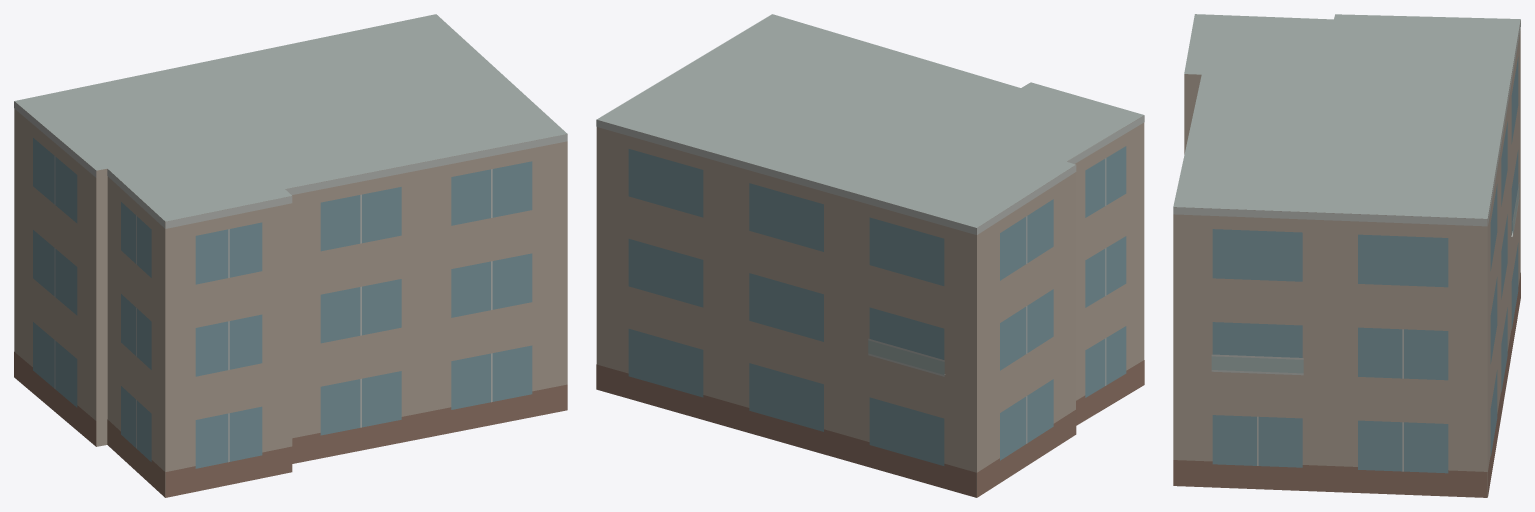
The model's file is survey-upis-33006445.glb.
3 views of the same model, side by side, from view 1: azimuth 30°, elevation 25°; view 2: azimuth 150°, elevation 25°; view 3: azimuth 270°, elevation 25° (orthographic). The views are drawn at different scales.
Parts seen in each view (by area): view 1: survey-upis-33006445.tmp; view 2: survey-upis-33006445.tmp; view 3: survey-upis-33006445.tmp.
Part boxes in pixels (x1,y1,x2,y2): survey-upis-33006445.tmp: (14,14,567,497); survey-upis-33006445.tmp: (596,14,1144,497); survey-upis-33006445.tmp: (1173,14,1520,497).
Bounding box in the file's own units: 14.43 × 9.15 × 10.34.
